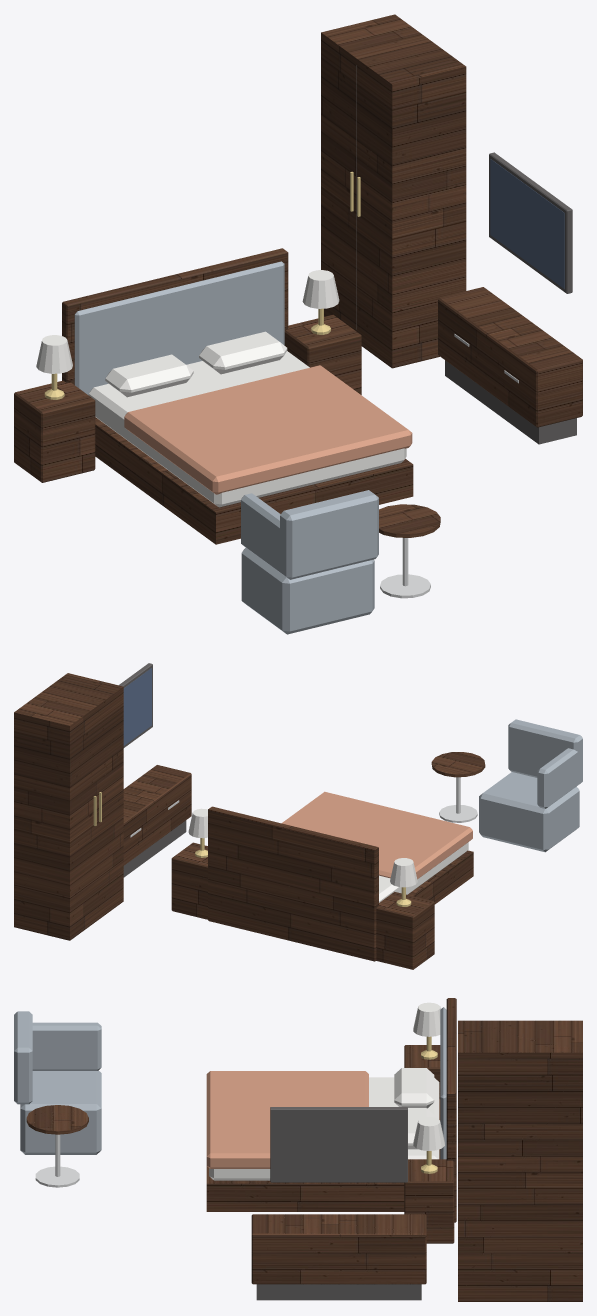
File: room_front.glb
The picture shows the model from 3 angles, top to bottom: view 1: azimuth 30°, elevation 25°; view 2: azimuth 150°, elevation 25°; view 3: azimuth 270°, elevation 25°; orthographic projection. The views are drawn at different scales.
Visible parts, largest first — view 1: room_front_dkwood, room_front_fabric, room_front_fabric2, room_front_linen, room_front_sign, room_front_dark, room_front_steel, room_front_gold; view 2: room_front_dkwood, room_front_fabric, room_front_fabric2, room_front_linen, room_front_sign, room_front_dark, room_front_steel, room_front_gold; view 3: room_front_dkwood, room_front_dark, room_front_fabric, room_front_fabric2, room_front_linen, room_front_steel, room_front_gold.
Part boxes in pixels (bbox=[...]): room_front_dkwood: bbox=[14, 14, 582, 544]; room_front_fabric: bbox=[74, 261, 378, 634]; room_front_fabric2: bbox=[124, 365, 412, 494]; room_front_linen: bbox=[36, 270, 406, 507]; room_front_sign: bbox=[490, 159, 564, 288]; room_front_dark: bbox=[356, 65, 576, 444]; room_front_steel: bbox=[380, 334, 518, 598]; room_front_gold: bbox=[44, 171, 360, 399]; room_front_dkwood: bbox=[14, 673, 485, 969]; room_front_fabric: bbox=[479, 719, 582, 852]; room_front_fabric2: bbox=[281, 791, 472, 879]; room_front_linen: bbox=[188, 808, 468, 902]; room_front_sign: bbox=[123, 668, 151, 745]; room_front_dark: bbox=[119, 663, 186, 877]; room_front_steel: bbox=[130, 777, 477, 837]; room_front_gold: bbox=[93, 792, 411, 906]; room_front_dkwood: bbox=[26, 998, 582, 1301]; room_front_dark: bbox=[256, 1107, 421, 1300]; room_front_fabric: bbox=[14, 1007, 446, 1159]; room_front_fabric2: bbox=[206, 1071, 368, 1168]; room_front_linen: bbox=[209, 1002, 444, 1180]; room_front_steel: bbox=[35, 1134, 79, 1187]; room_front_gold: bbox=[421, 1036, 437, 1173].
Size of the model in its own units: 3.69 by 2.2 by 4.55.
Materials: 8 (1 with a texture image).
